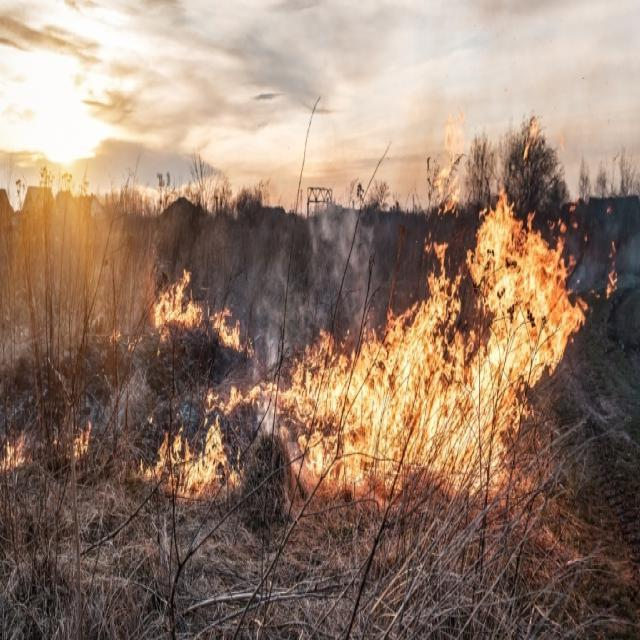Fire: (288, 175, 606, 527), (142, 391, 246, 509), (148, 264, 239, 347), (64, 415, 98, 467), (0, 425, 33, 478)
